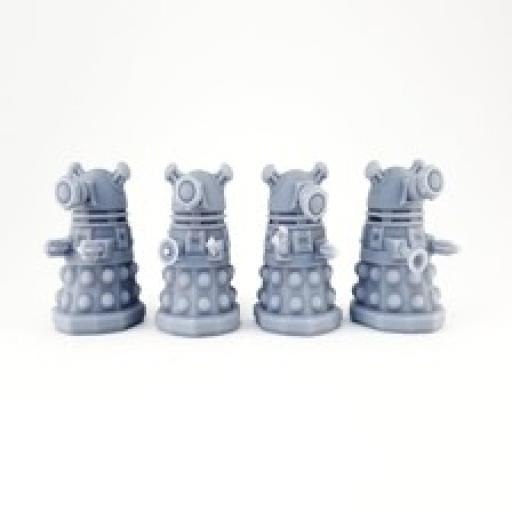dalek: (351, 159, 461, 334), (43, 162, 148, 333), (252, 165, 342, 336), (156, 165, 240, 338)
